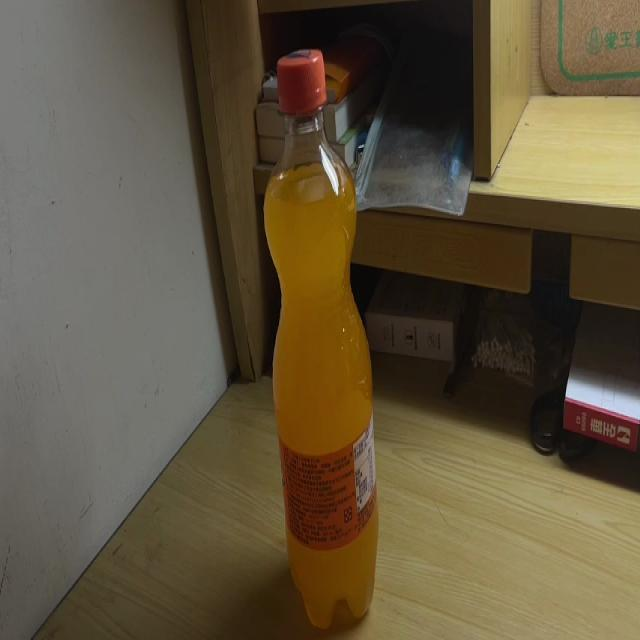Fanta: (262, 48, 378, 631)
